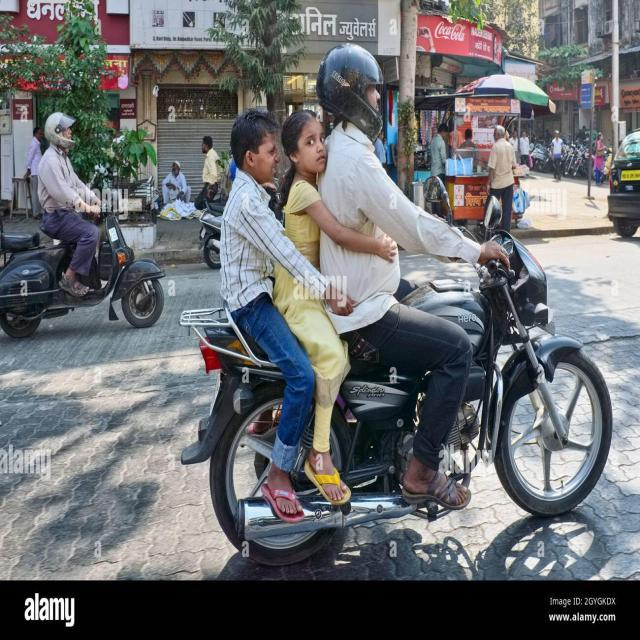Triple riding: (222, 39, 431, 333)
